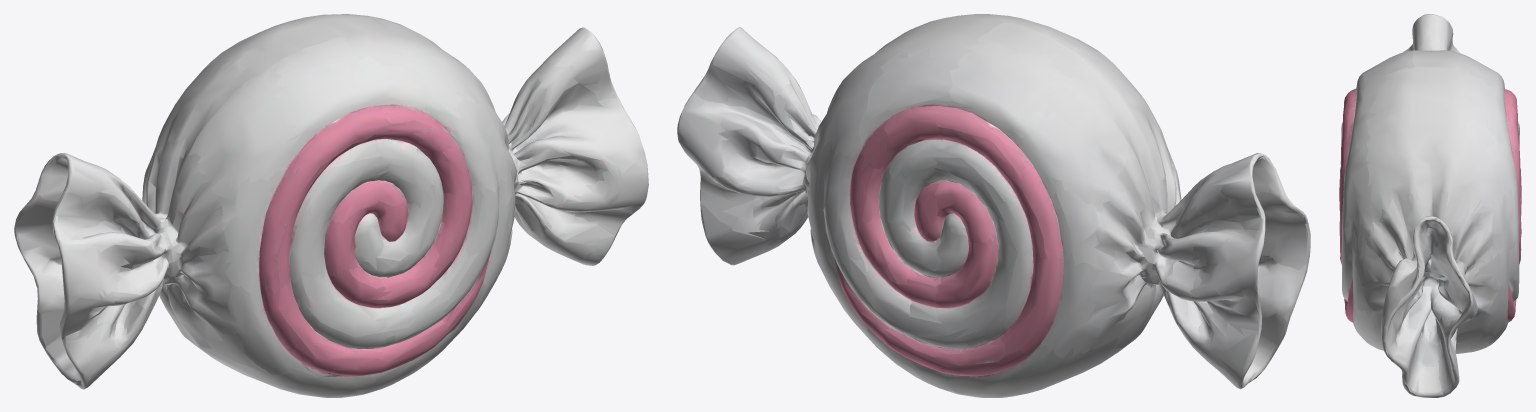
Rendered from caramelo.glb.
3 views of the same model, side by side, from view 1: azimuth 30°, elevation 25°; view 2: azimuth 150°, elevation 25°; view 3: azimuth 270°, elevation 25° (orthographic). The views are drawn at different scales.
Visible parts, largest first — view 1: output_unwrapped; view 2: output_unwrapped; view 3: output_unwrapped.
Boxes of the visible parts, x1=… form: output_unwrapped: x1=14, y1=14, x2=648, y2=397; output_unwrapped: x1=677, y1=14, x2=1310, y2=397; output_unwrapped: x1=1339, y1=14, x2=1521, y2=397.
Size of the model in its own units: 1.9 by 1.08 by 0.6517.
Materials: 1 (1 with a texture image).
